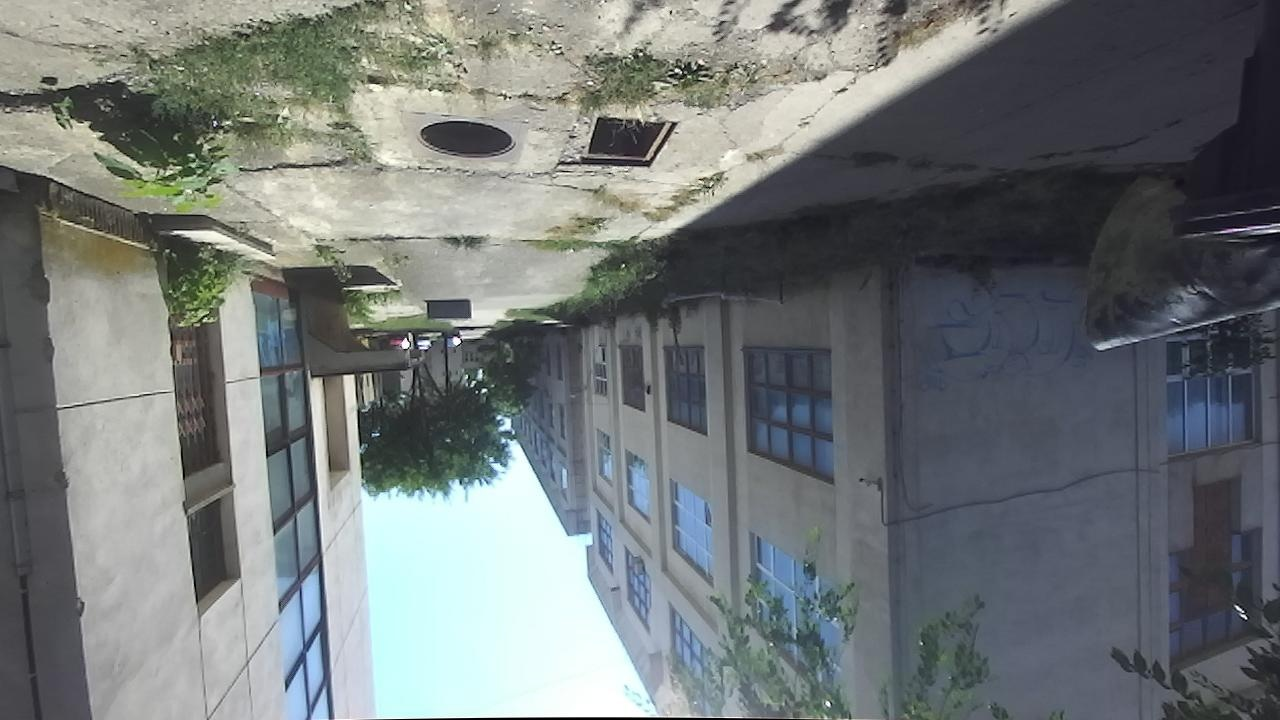drain: (576, 114, 681, 169), (411, 118, 520, 162)
